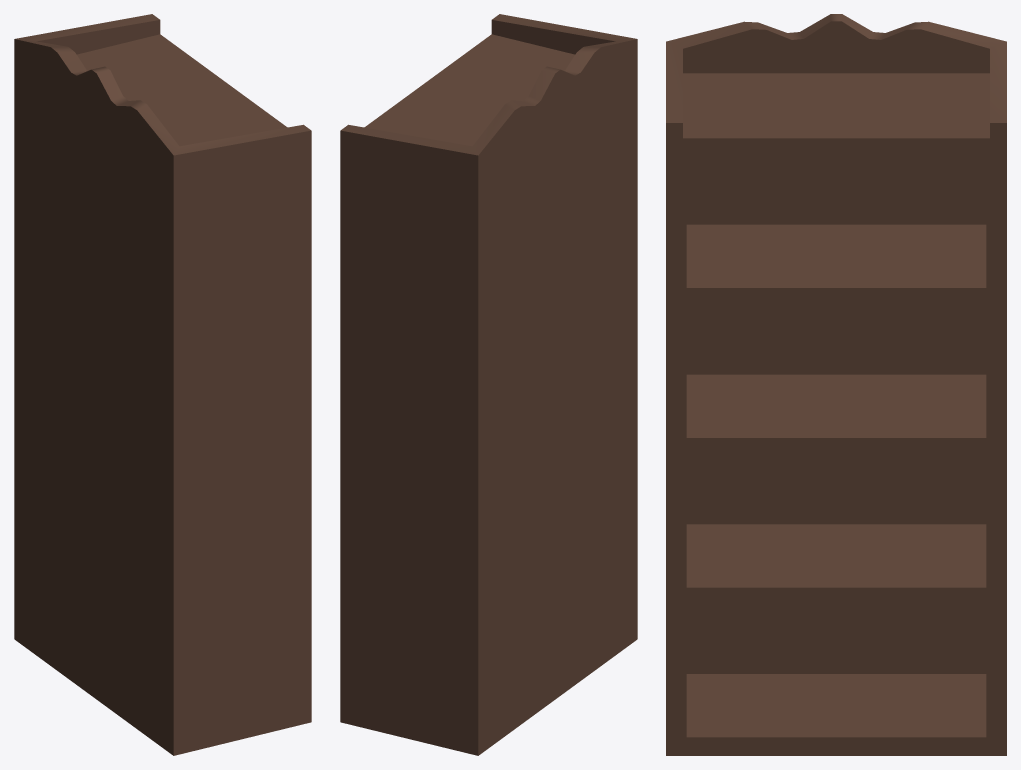
The picture shows the model from 3 angles, left to right: view 1: azimuth 30°, elevation 25°; view 2: azimuth 150°, elevation 25°; view 3: azimuth 270°, elevation 25°; orthographic projection. The views are drawn at different scales.
Visible parts, largest first — view 1: Bookshelf_0.5x1x2_0; view 2: Bookshelf_0.5x1x2_0; view 3: Bookshelf_0.5x1x2_0.
Boxes of the visible parts, x1=… form: Bookshelf_0.5x1x2_0: x1=14, y1=14, x2=311, y2=755; Bookshelf_0.5x1x2_0: x1=340, y1=14, x2=637, y2=755; Bookshelf_0.5x1x2_0: x1=666, y1=14, x2=1006, y2=755.
Size of the model in its own units: 0.5 by 2.17 by 1.
